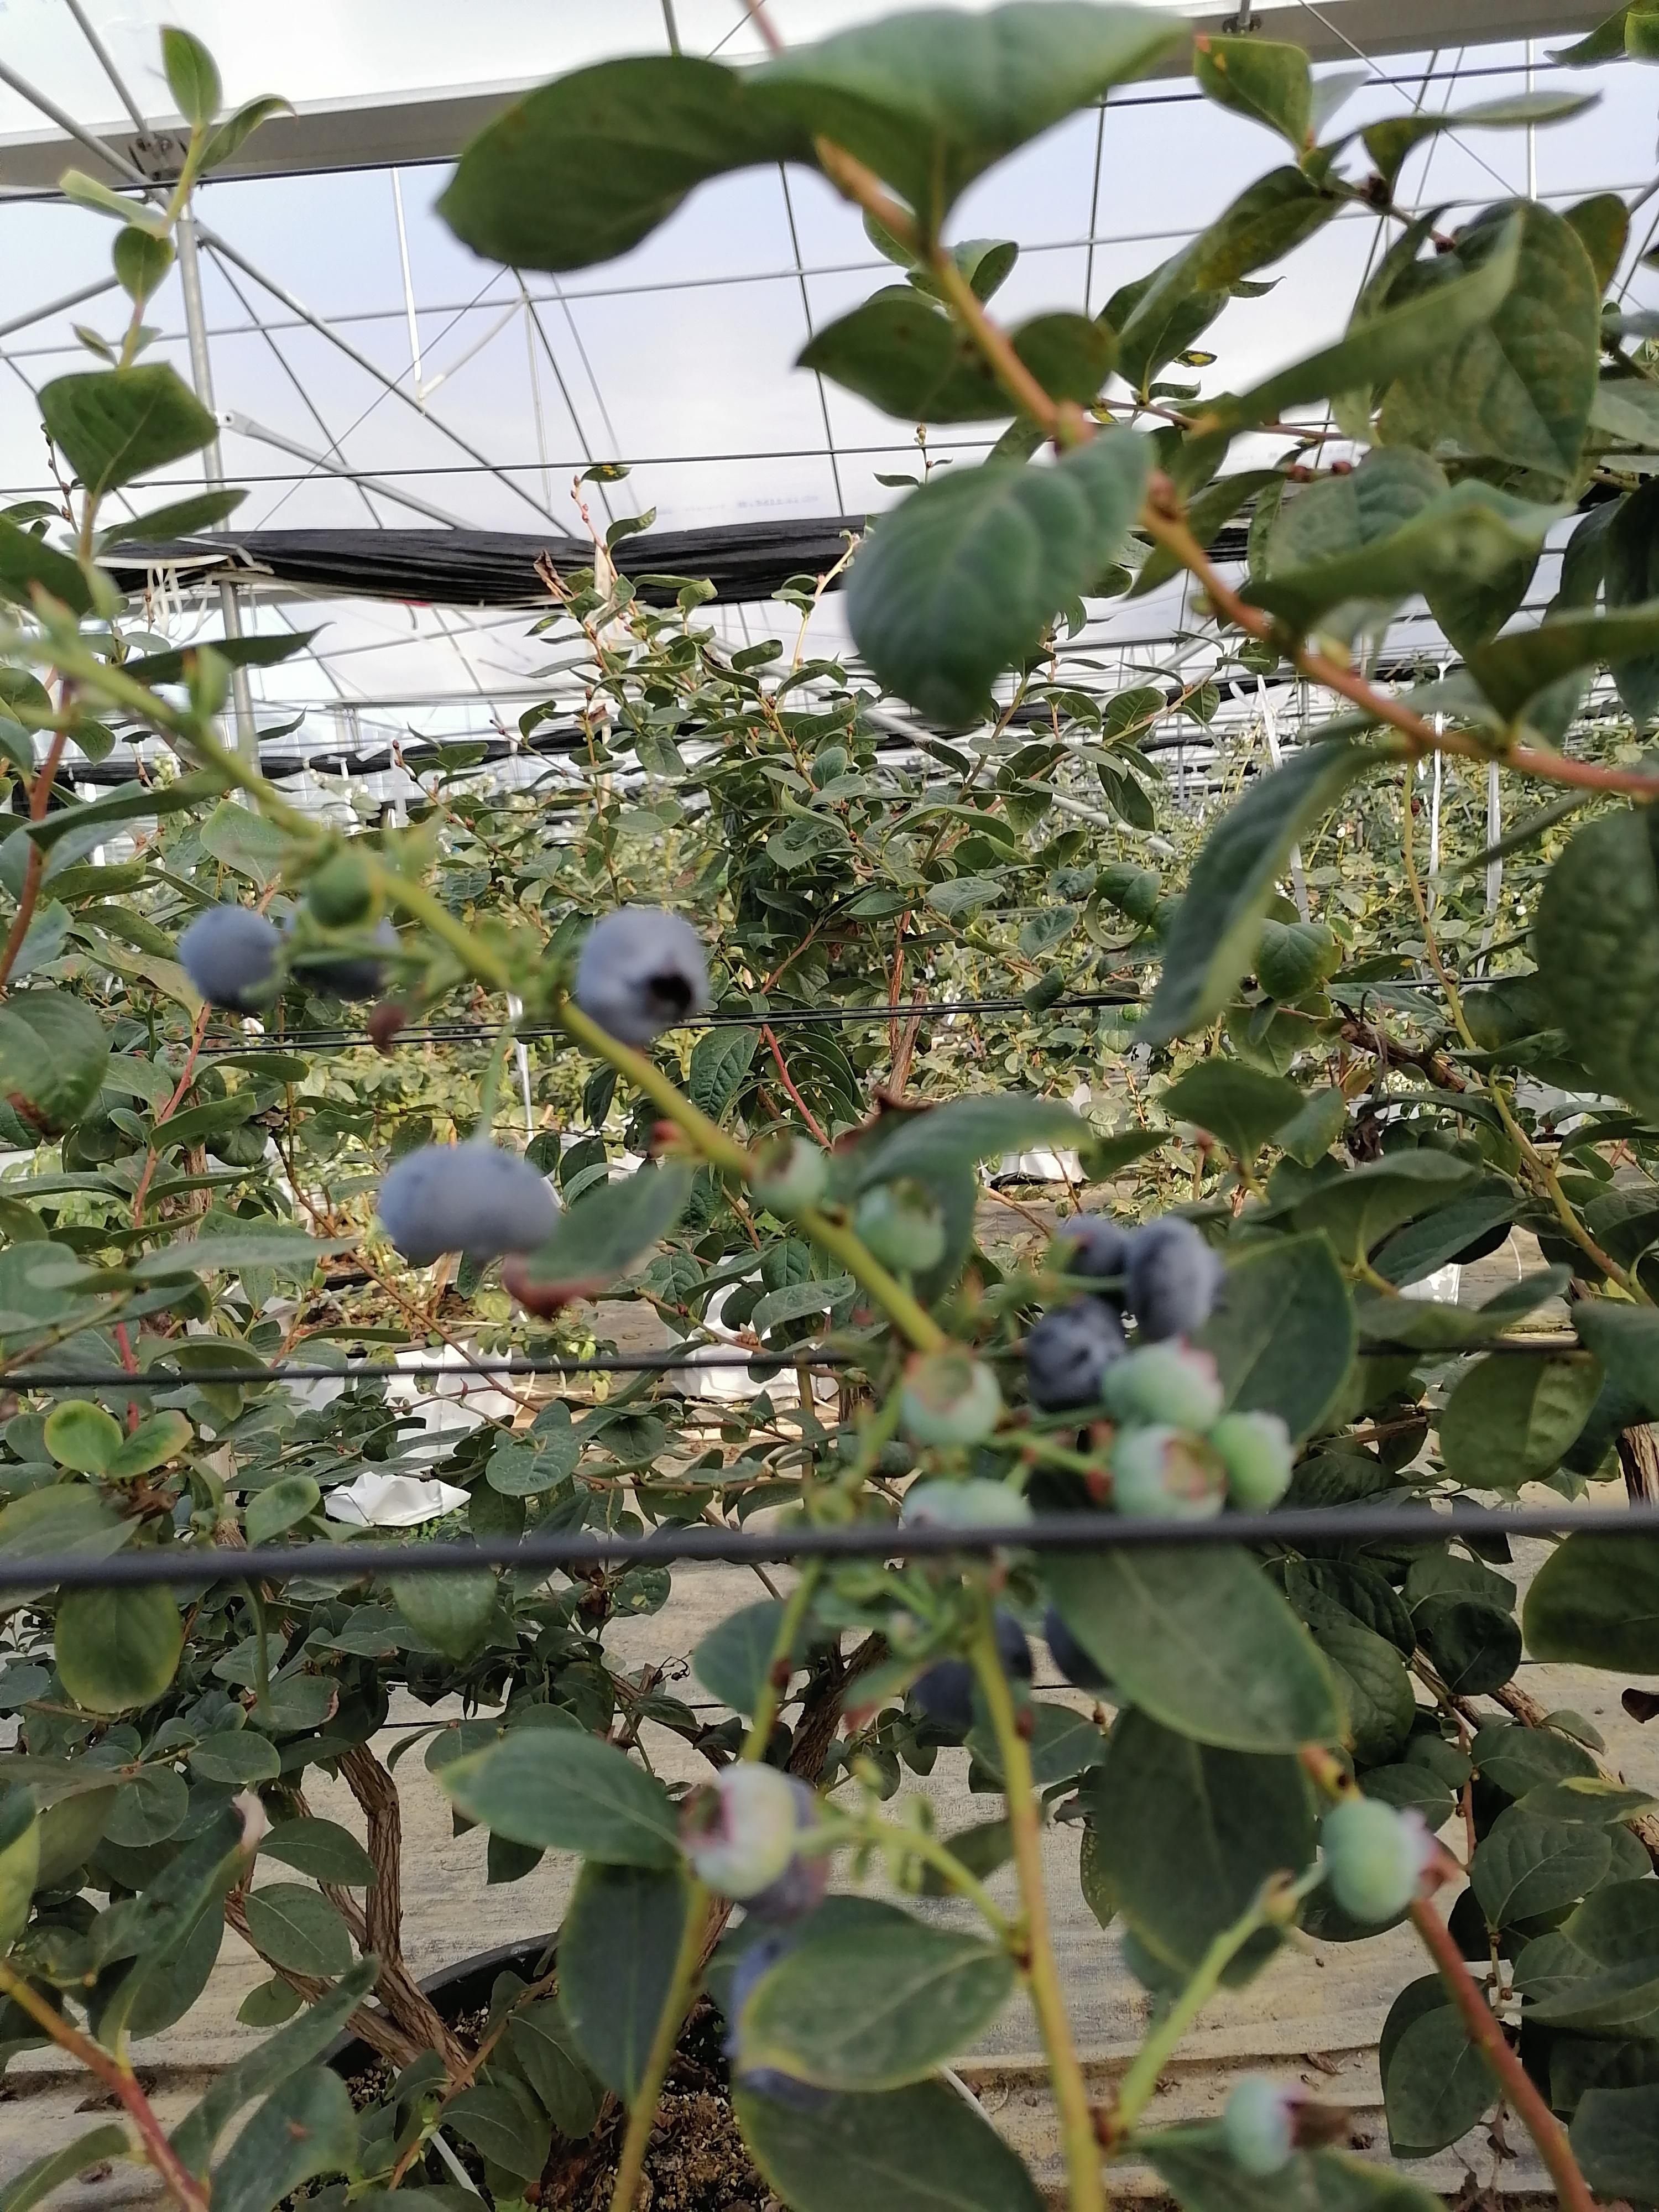ripe-blueberries: (375, 1143, 566, 1273), (579, 906, 711, 1047), (1126, 1212, 1232, 1345), (1025, 1294, 1131, 1414), (176, 900, 284, 1014), (1054, 1217, 1138, 1317)
